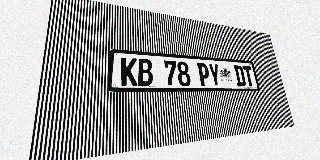7: (163, 60, 178, 86)
8: (176, 61, 191, 86)
B: (137, 58, 153, 86)
D: (233, 65, 246, 86)
K: (121, 57, 137, 86)
P: (197, 63, 211, 86)
T: (242, 66, 255, 86)
Y: (208, 63, 222, 86)
